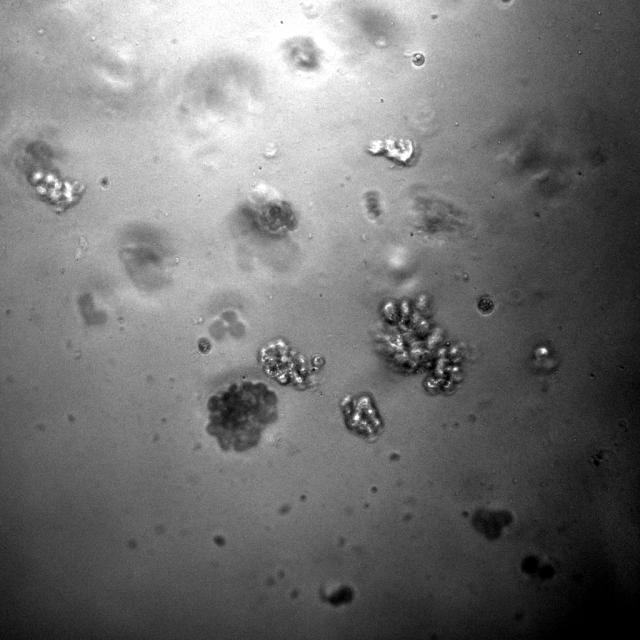organoid: (372, 292, 466, 395), (208, 380, 278, 452), (16, 141, 84, 212), (258, 338, 324, 388), (242, 183, 297, 237), (340, 394, 383, 439), (368, 139, 415, 165), (476, 296, 495, 315), (198, 336, 212, 354), (411, 52, 425, 67)
